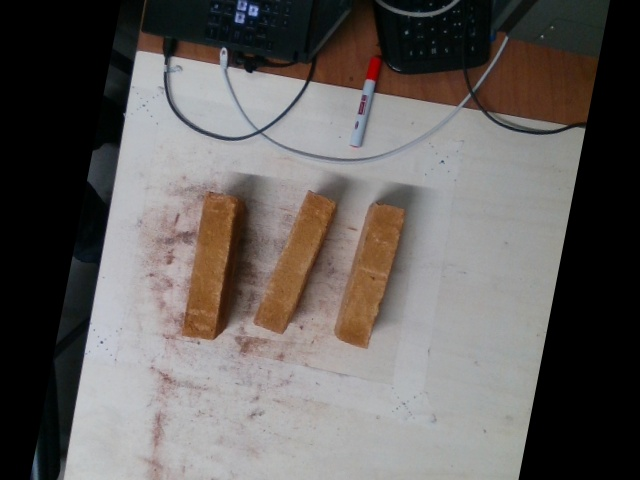brick-side: (257, 190, 333, 330), (336, 204, 404, 347), (182, 195, 233, 338)
